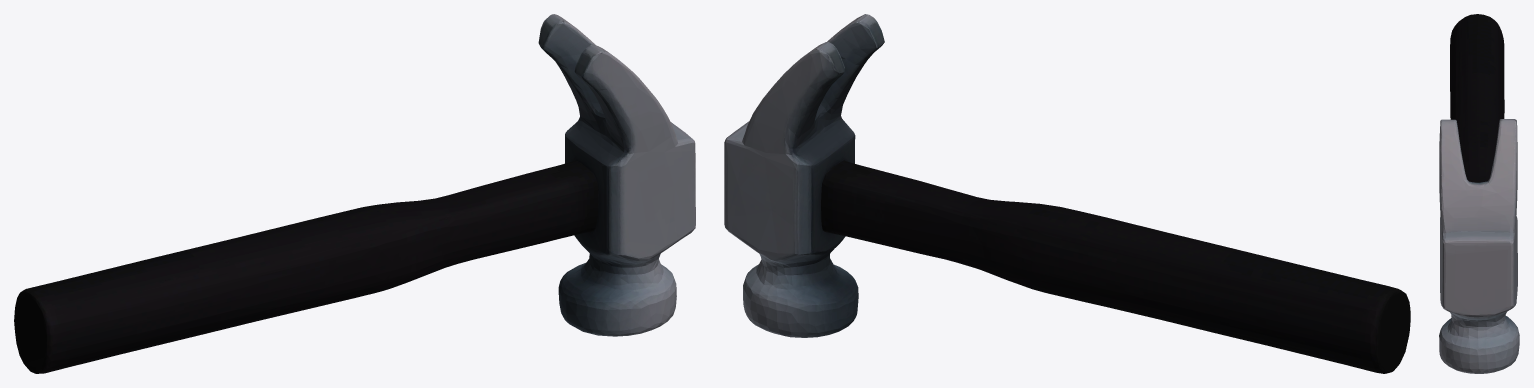
The model's file is tool_hammer.glb.
The picture shows the model from 3 angles, left to right: view 1: azimuth 30°, elevation 25°; view 2: azimuth 150°, elevation 25°; view 3: azimuth 270°, elevation 25°; orthographic projection. The views are drawn at different scales.
Visible parts, largest first — view 1: V_claw_hammer_0; view 2: V_claw_hammer_0; view 3: V_claw_hammer_0.
Part boxes in pixels (<box>): V_claw_hammer_0: <box>14,14,695,373</box>; V_claw_hammer_0: <box>724,14,1410,373</box>; V_claw_hammer_0: <box>1439,14,1519,373</box>.
Bounding box in the file's own units: 0.195 × 0.0856 × 0.028.
1 material, 1 textured.
